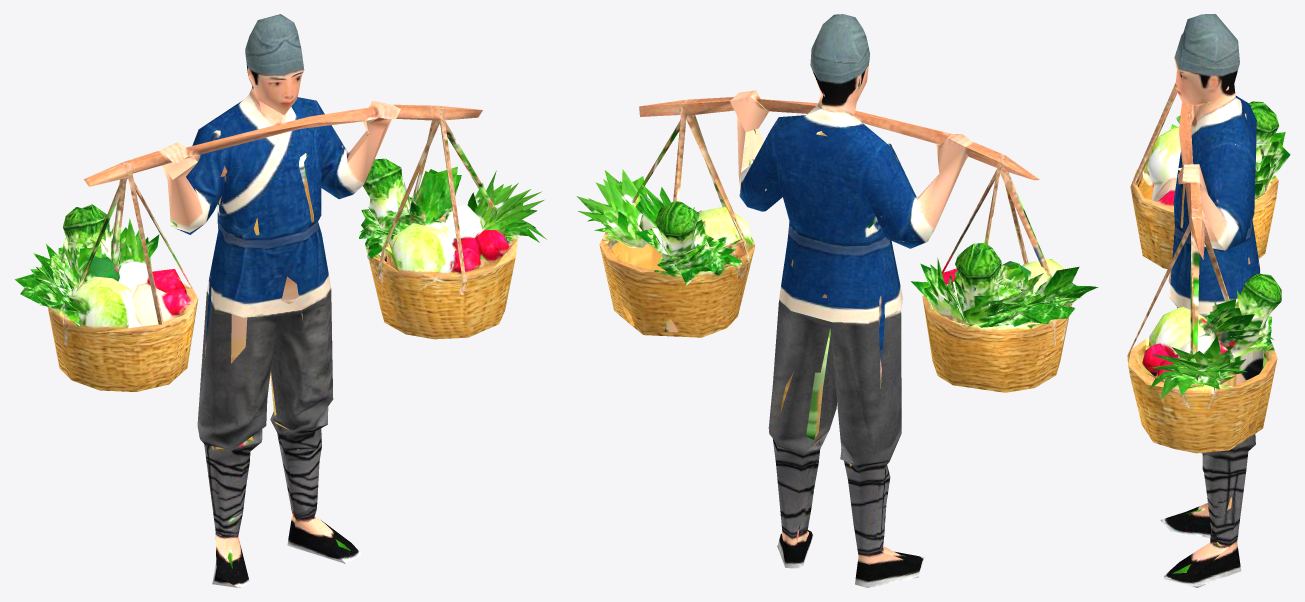
Rendered from p_vendor_lo.glb.
3 views of the same model, side by side, from view 1: azimuth 30°, elevation 25°; view 2: azimuth 150°, elevation 25°; view 3: azimuth 270°, elevation 25° (orthographic).
Visible parts, largest first — view 1: p_vendor; view 2: p_vendor; view 3: p_vendor.
Part boxes in pixels (x1,y1,x2,y2): p_vendor: (14, 14, 546, 587); p_vendor: (576, 14, 1098, 587); p_vendor: (1127, 14, 1290, 587).
Size of the model in its own units: 1.66 by 1.71 by 0.4664.
Materials: 1 (1 with a texture image).
